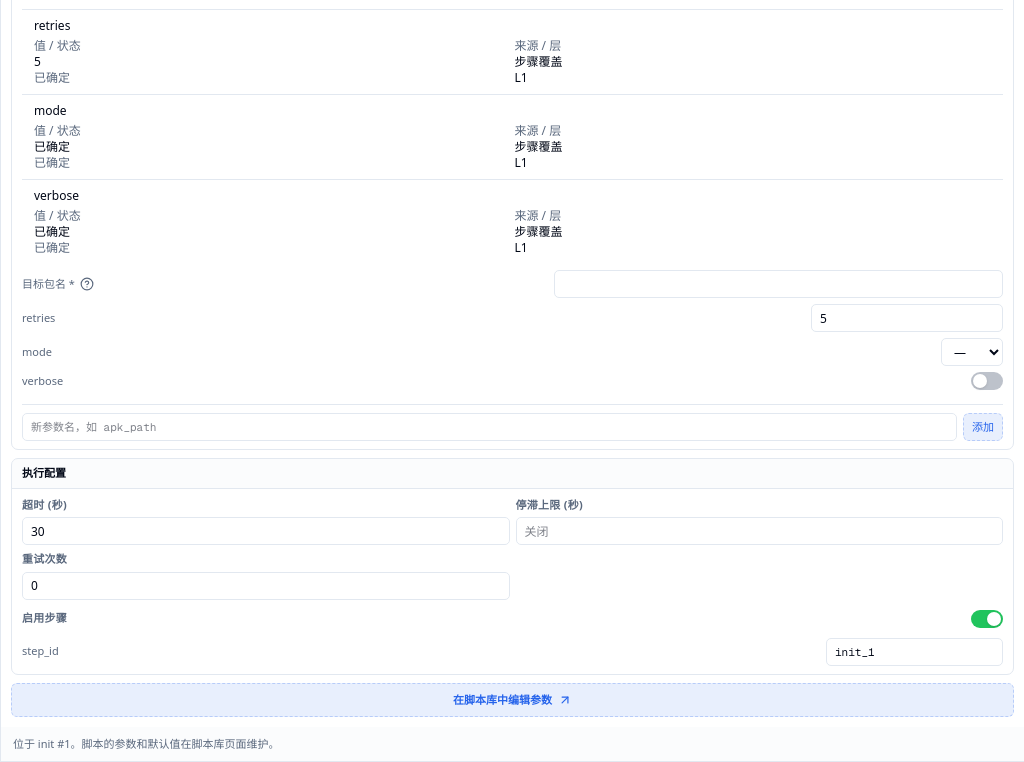
Test: PlanStepInspector › 执行配置 › 超时填 0 表示不限，并要求配套停滞钟（#3653 §3.4）
(page scrolled)
Replace the text in the number field below "超时 (秒)" with "0": (266, 531) [22,517,510,545]
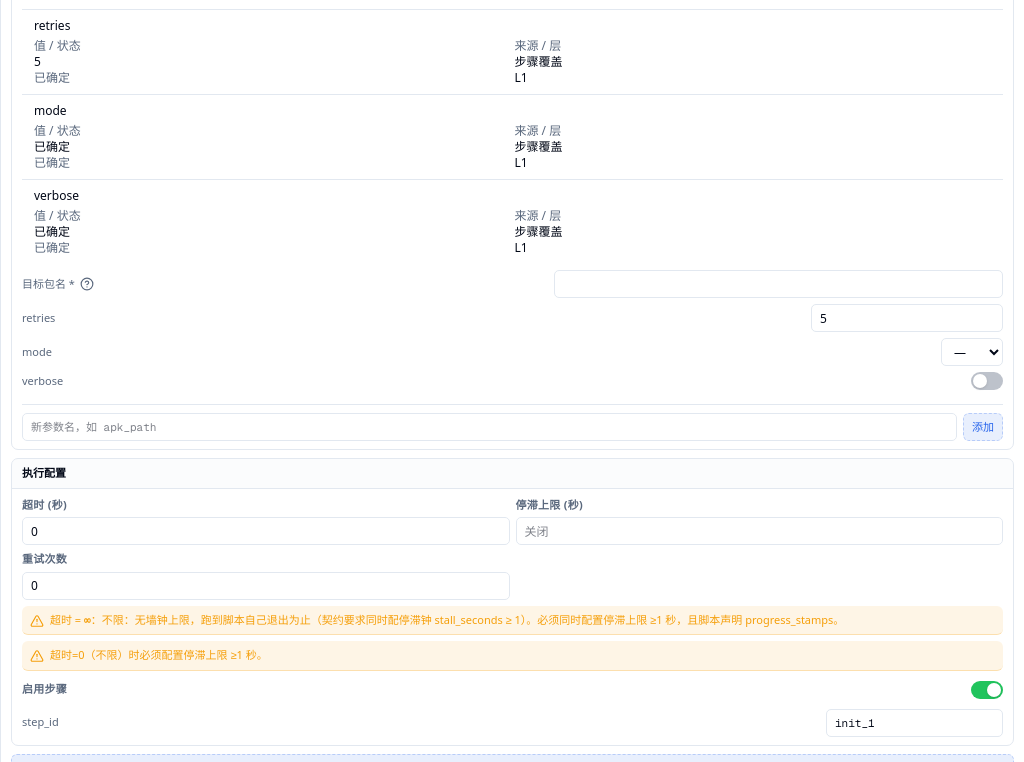
Now the element with test id "step-runtime-validation" shows "停滞上限", box [50,647,268,662]
